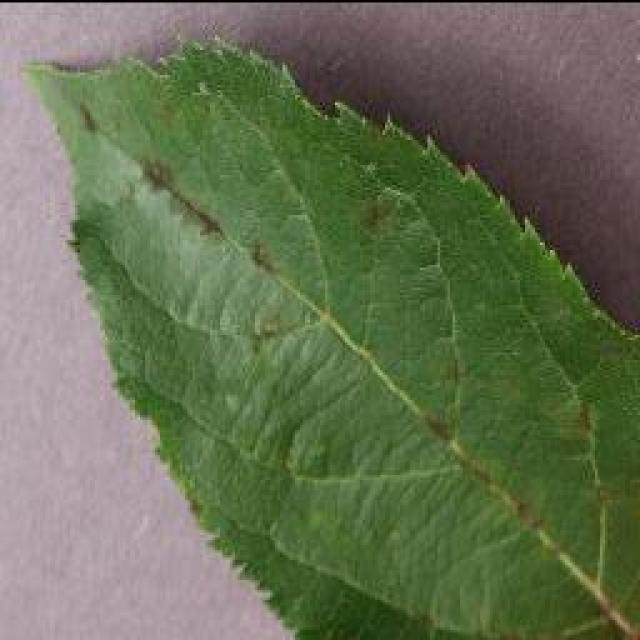apple scab disease: (20, 30, 638, 638)
